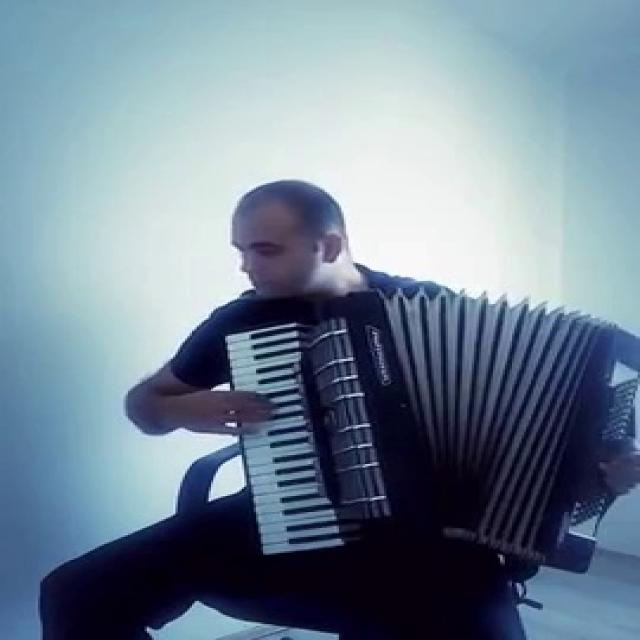Accordion: (210, 291, 640, 550)
